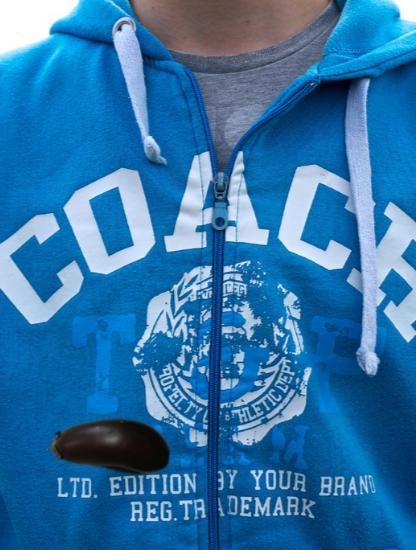Eggplant: (48, 381, 174, 507)
